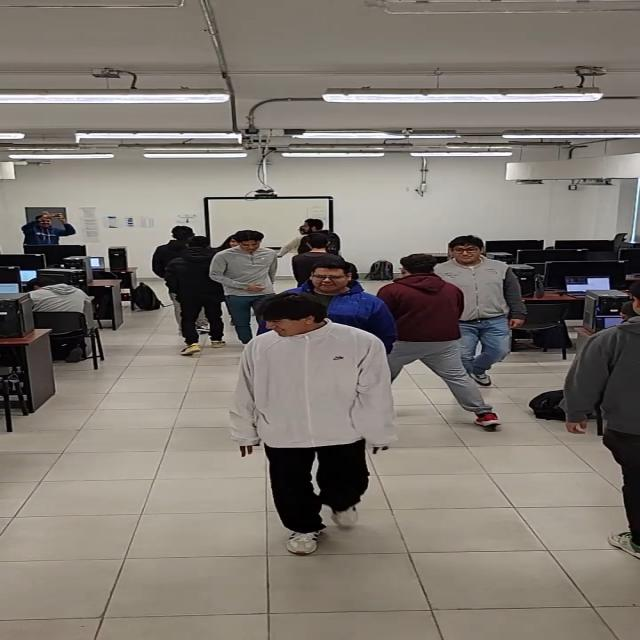Persona: (256, 290, 396, 548), (380, 256, 470, 400), (442, 242, 528, 378), (170, 236, 223, 343), (214, 230, 269, 328), (289, 261, 383, 306), (22, 209, 75, 260), (294, 233, 359, 262), (152, 220, 193, 255)
